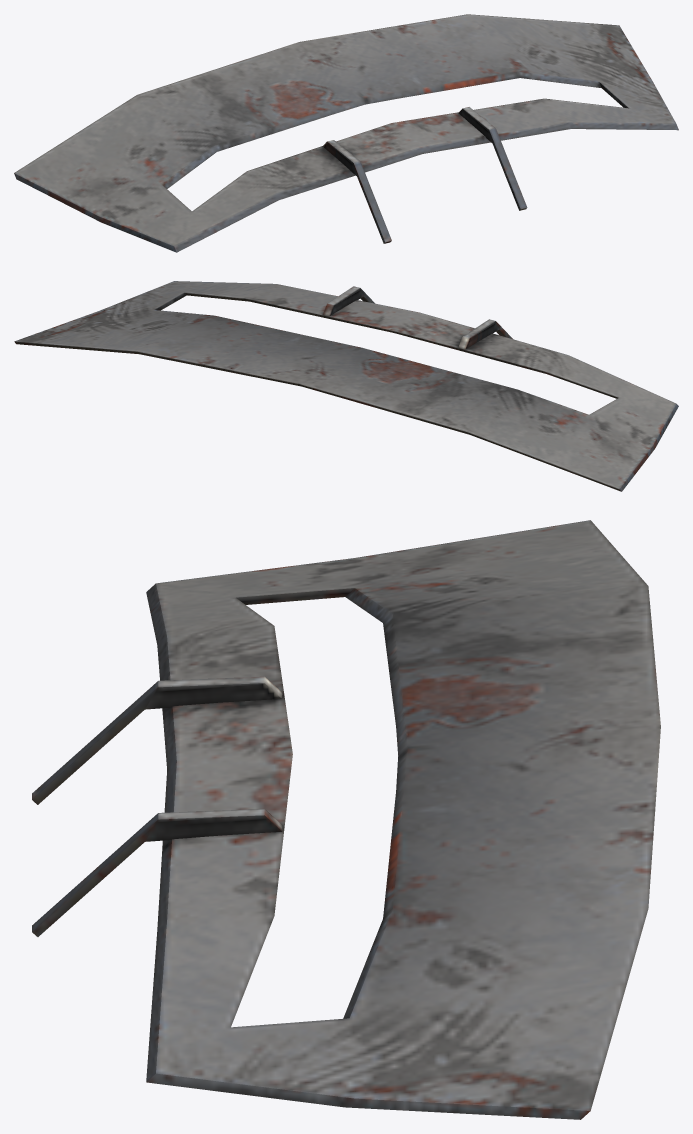
The model's file is FordF700BoxWindshieldArmor_WorldItem.fbx.
The picture shows the model from 3 angles, top to bottom: view 1: azimuth 30°, elevation 25°; view 2: azimuth 150°, elevation 25°; view 3: azimuth 270°, elevation 25°; orthographic projection. The views are drawn at different scales.
Parts seen in each view (by area): view 1: WindshieldArmor_obj; view 2: WindshieldArmor_obj; view 3: WindshieldArmor_obj.
Part boxes in pixels (bbox=[...]): WindshieldArmor_obj: bbox=[14, 14, 678, 252]; WindshieldArmor_obj: bbox=[14, 281, 678, 491]; WindshieldArmor_obj: bbox=[32, 520, 660, 1119].
Bounding box in the file's own units: 2.59 × 0.2888 × 1.17.
